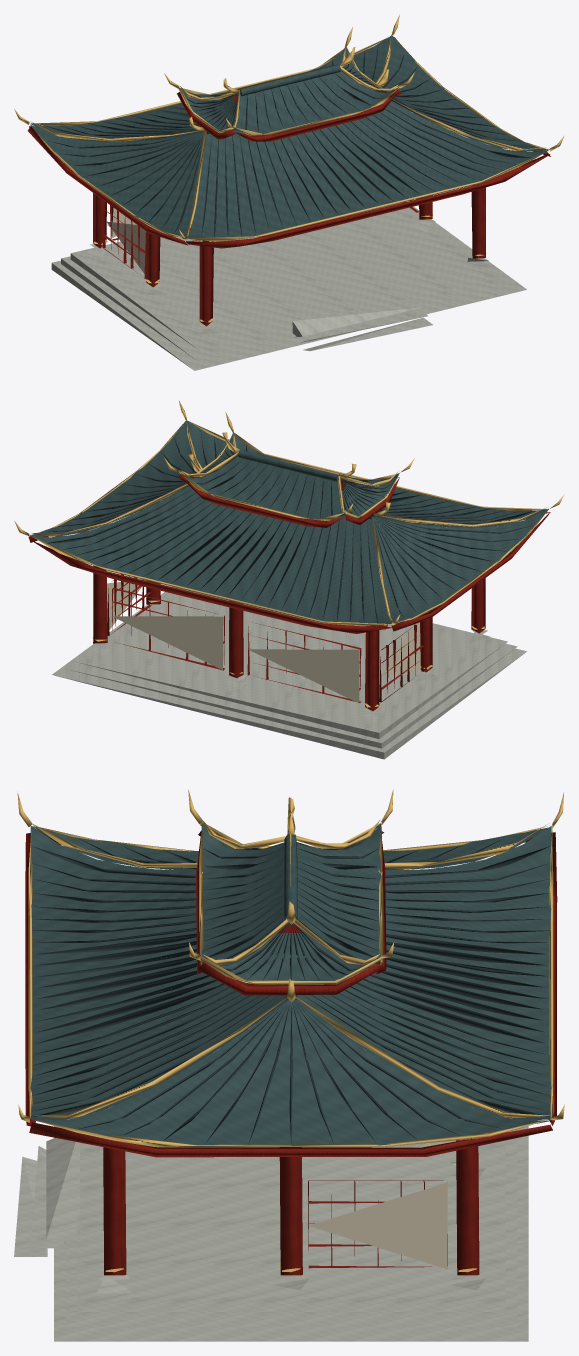
Rendered from pavilion_far.glb.
3 views of the same model, one above another, from view 1: azimuth 30°, elevation 25°; view 2: azimuth 150°, elevation 25°; view 3: azimuth 270°, elevation 25° (orthographic). The views are drawn at different scales.
Parts seen in each view (by area): view 1: pavilion_far_Temple_Charcoal_Glazed_Tiles, pavilion_far_Temple_Worn_Pale_Stone, pavilion_far_Temple_Dark_Ridge_and_Iron, pavilion_far_Temple_Red_Timber, pavilion_far_Temple_Antique_Gold, pavilion_far_Temple_Warm_Paper; view 2: pavilion_far_Temple_Charcoal_Glazed_Tiles, pavilion_far_Temple_Worn_Pale_Stone, pavilion_far_Temple_Red_Timber, pavilion_far_Temple_Dark_Ridge_and_Iron, pavilion_far_Temple_Warm_Paper, pavilion_far_Temple_Antique_Gold; view 3: pavilion_far_Temple_Charcoal_Glazed_Tiles, pavilion_far_Temple_Worn_Pale_Stone, pavilion_far_Temple_Dark_Ridge_and_Iron, pavilion_far_Temple_Red_Timber, pavilion_far_Temple_Antique_Gold, pavilion_far_Temple_Warm_Paper.
Boxes of the visible parts, x1,y1,x2,y2 form: pavilion_far_Temple_Charcoal_Glazed_Tiles: [30, 35, 549, 240]; pavilion_far_Temple_Worn_Pale_Stone: [51, 201, 526, 370]; pavilion_far_Temple_Dark_Ridge_and_Iron: [46, 46, 533, 237]; pavilion_far_Temple_Red_Timber: [27, 37, 550, 326]; pavilion_far_Temple_Antique_Gold: [14, 14, 564, 322]; pavilion_far_Temple_Warm_Paper: [106, 208, 146, 273]; pavilion_far_Temple_Charcoal_Glazed_Tiles: [29, 420, 548, 625]; pavilion_far_Temple_Worn_Pale_Stone: [52, 586, 526, 759]; pavilion_far_Temple_Red_Timber: [28, 441, 550, 711]; pavilion_far_Temple_Dark_Ridge_and_Iron: [47, 431, 533, 623]; pavilion_far_Temple_Warm_Paper: [107, 579, 420, 703]; pavilion_far_Temple_Antique_Gold: [14, 401, 564, 707]; pavilion_far_Temple_Charcoal_Glazed_Tiles: [30, 823, 551, 1145]; pavilion_far_Temple_Worn_Pale_Stone: [14, 1093, 528, 1341]; pavilion_far_Temple_Dark_Ridge_and_Iron: [31, 834, 550, 1144]; pavilion_far_Temple_Red_Timber: [25, 829, 557, 1275]; pavilion_far_Temple_Antique_Gold: [17, 789, 564, 1272]; pavilion_far_Temple_Warm_Paper: [309, 1182, 447, 1269].
Bounding box in the file's own units: 12.85 × 6.95 × 9.57.
Materials: 6 (3 with a texture image).
